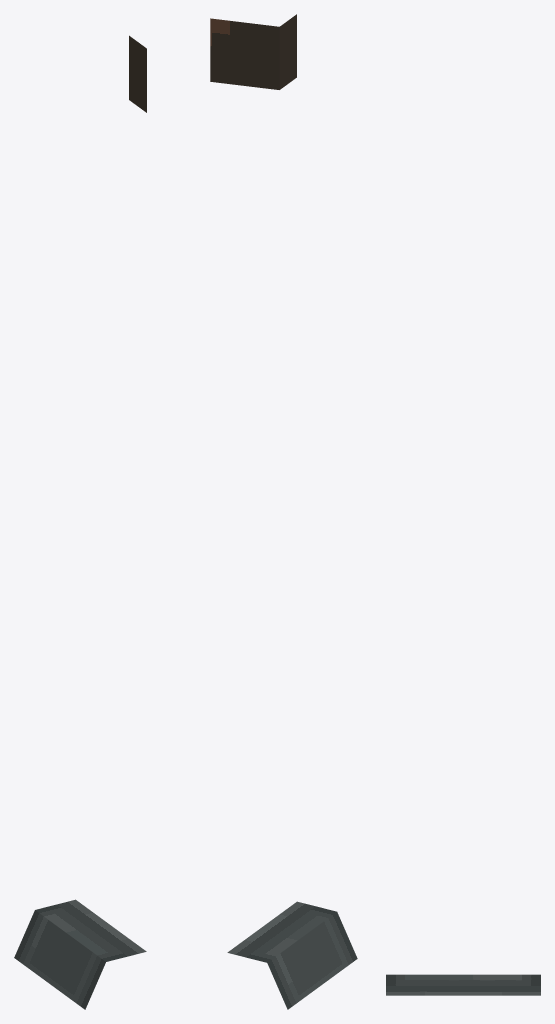
The picture shows the model from 3 angles, left to right: view 1: azimuth 30°, elevation 25°; view 2: azimuth 150°, elevation 25°; view 3: azimuth 270°, elevation 25°; orthographic projection. The views are drawn at different scales.
Bounding box in the file's own units: 1 × 7.33 × 1.
2 materials, 2 textured.
